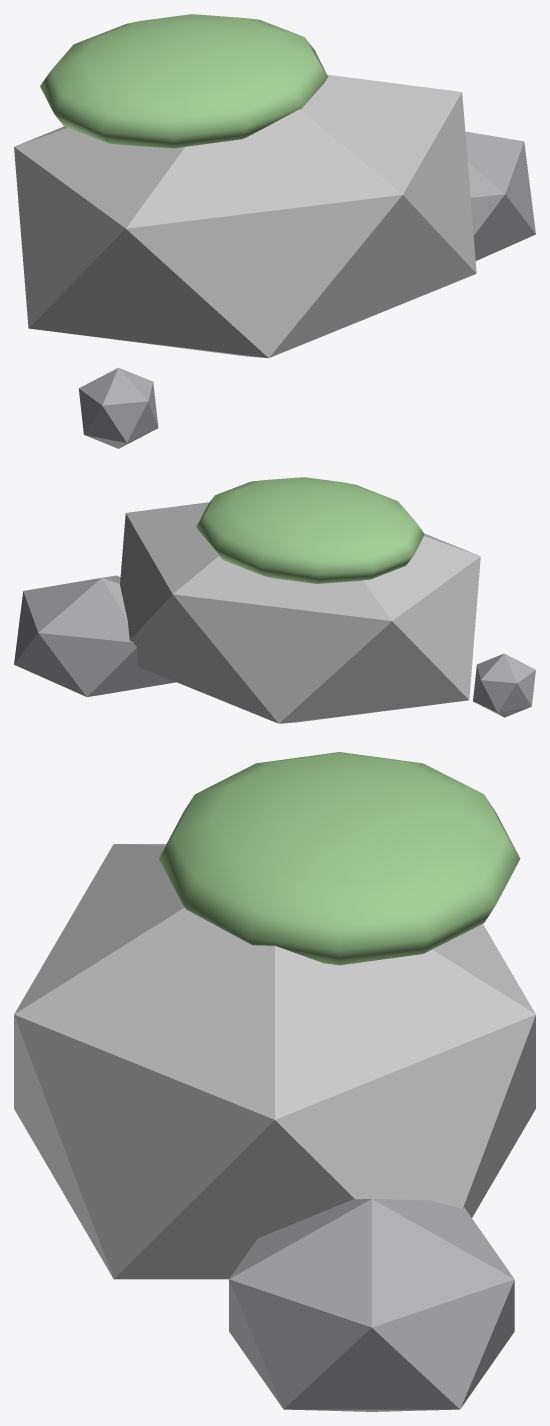
Rendered from decor_rock.glb.
3 renders of one model, top to bottom at view 1: azimuth 30°, elevation 25°; view 2: azimuth 150°, elevation 25°; view 3: azimuth 270°, elevation 25°, orthographic. The views are drawn at different scales.
Parts seen in each view (by area): view 1: Rock, Moss, Rock2, Pebble; view 2: Rock, Moss, Rock2, Pebble; view 3: Rock, Moss, Rock2.
Boxes of the visible parts, x1,y1,x2,y2 form: Rock: [14, 74, 476, 358]; Moss: [40, 14, 327, 148]; Rock2: [465, 131, 535, 260]; Pebble: [78, 367, 158, 448]; Rock: [120, 502, 480, 723]; Moss: [196, 477, 424, 583]; Rock2: [14, 575, 175, 696]; Pebble: [473, 653, 535, 717]; Rock: [14, 844, 535, 1279]; Moss: [159, 752, 520, 965]; Rock2: [229, 1199, 514, 1411].
Size of the model in its own units: 1.4 by 0.758 by 0.8081.
